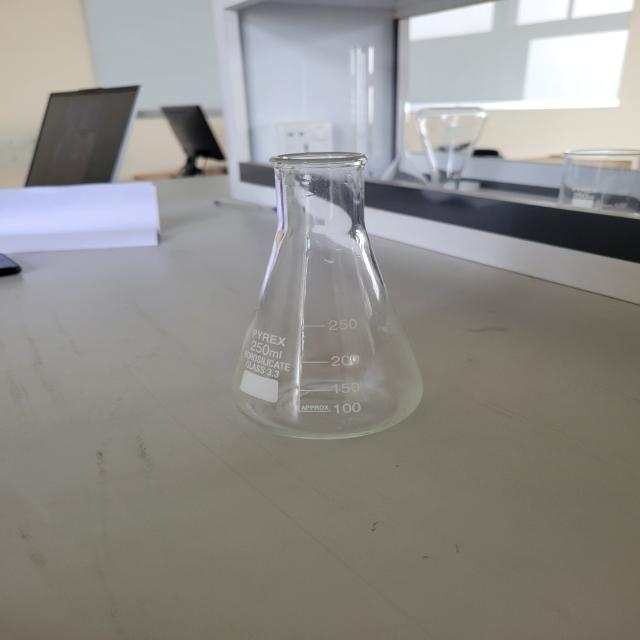Conical_Flask: (182, 116, 450, 470)
